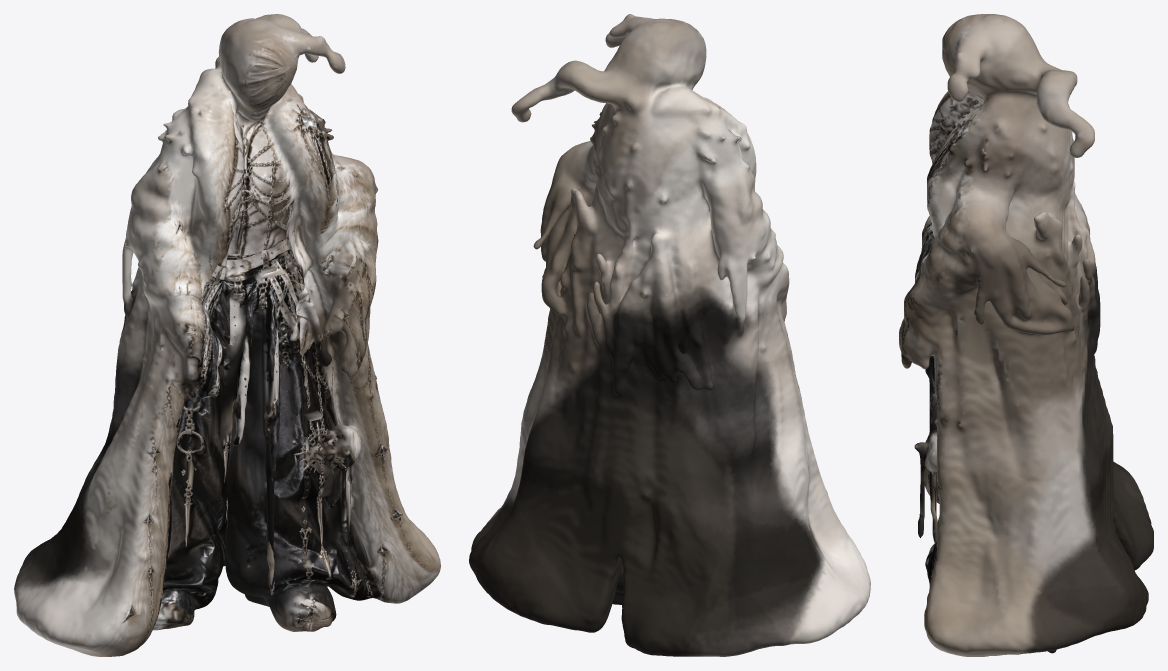
The model's file is home2-3d-ai-generated-picreviver.glb.
3 views of the same model, side by side, from view 1: azimuth 30°, elevation 25°; view 2: azimuth 150°, elevation 25°; view 3: azimuth 270°, elevation 25° (orthographic). The views are drawn at different scales.
Bounding box in the file's own units: 1.26 × 1.9 × 0.7389.
1 material, 1 textured.
